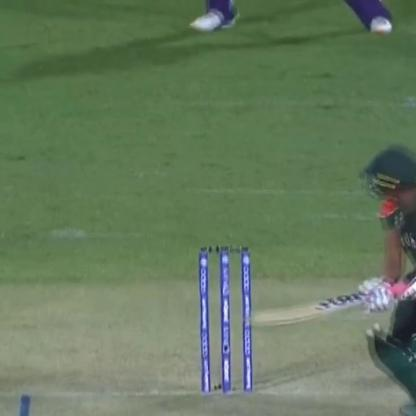bat: (241, 286, 371, 329)
